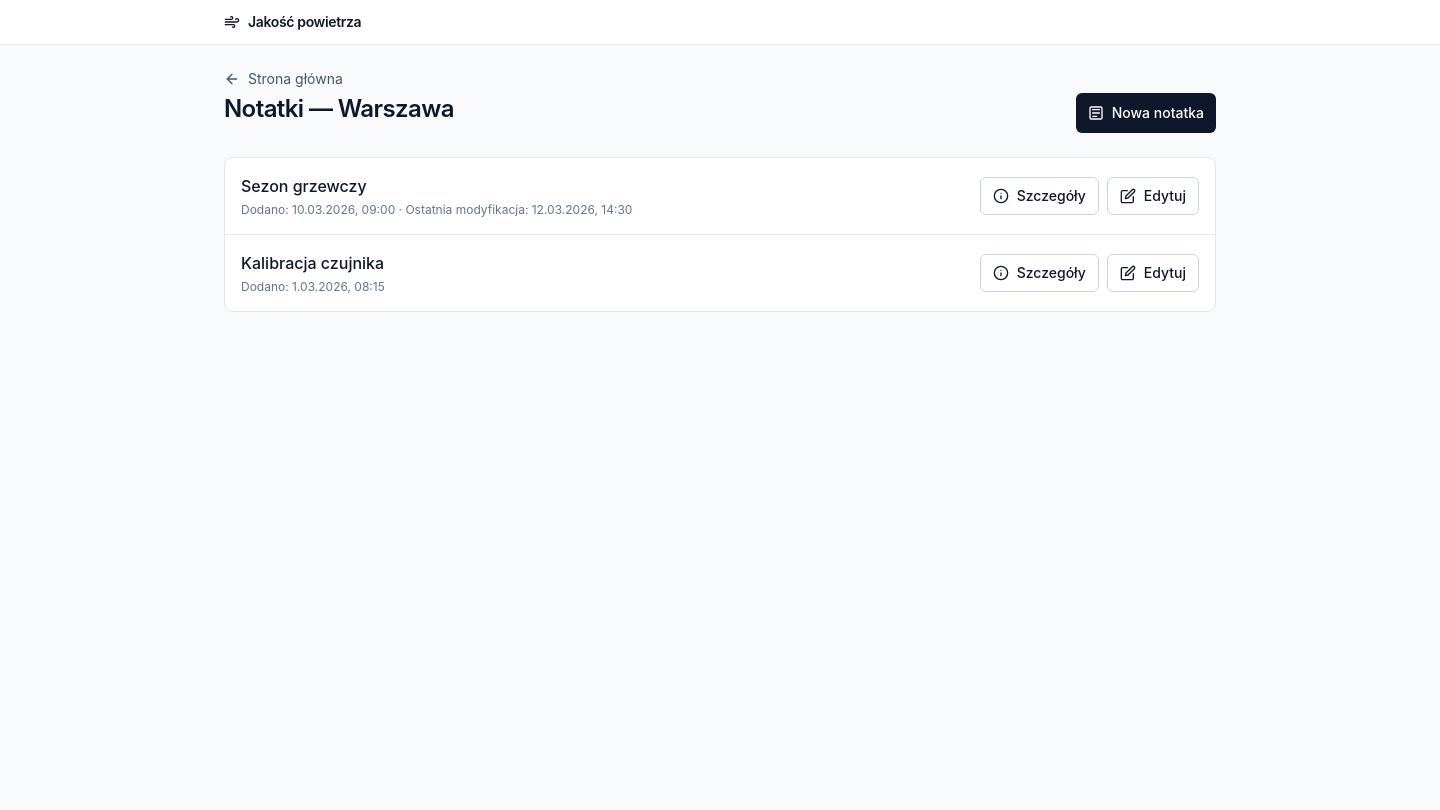
cityNotes -> pages -> NotesPage › opens detail modal with note body
Expected: the text "Sezon grzewczy" is shown, [241,176,367,196]
Click the button "Szczegóły" in the row of "Sezon grzewczy".
click(1039, 196)  # box [980,177,1099,215]
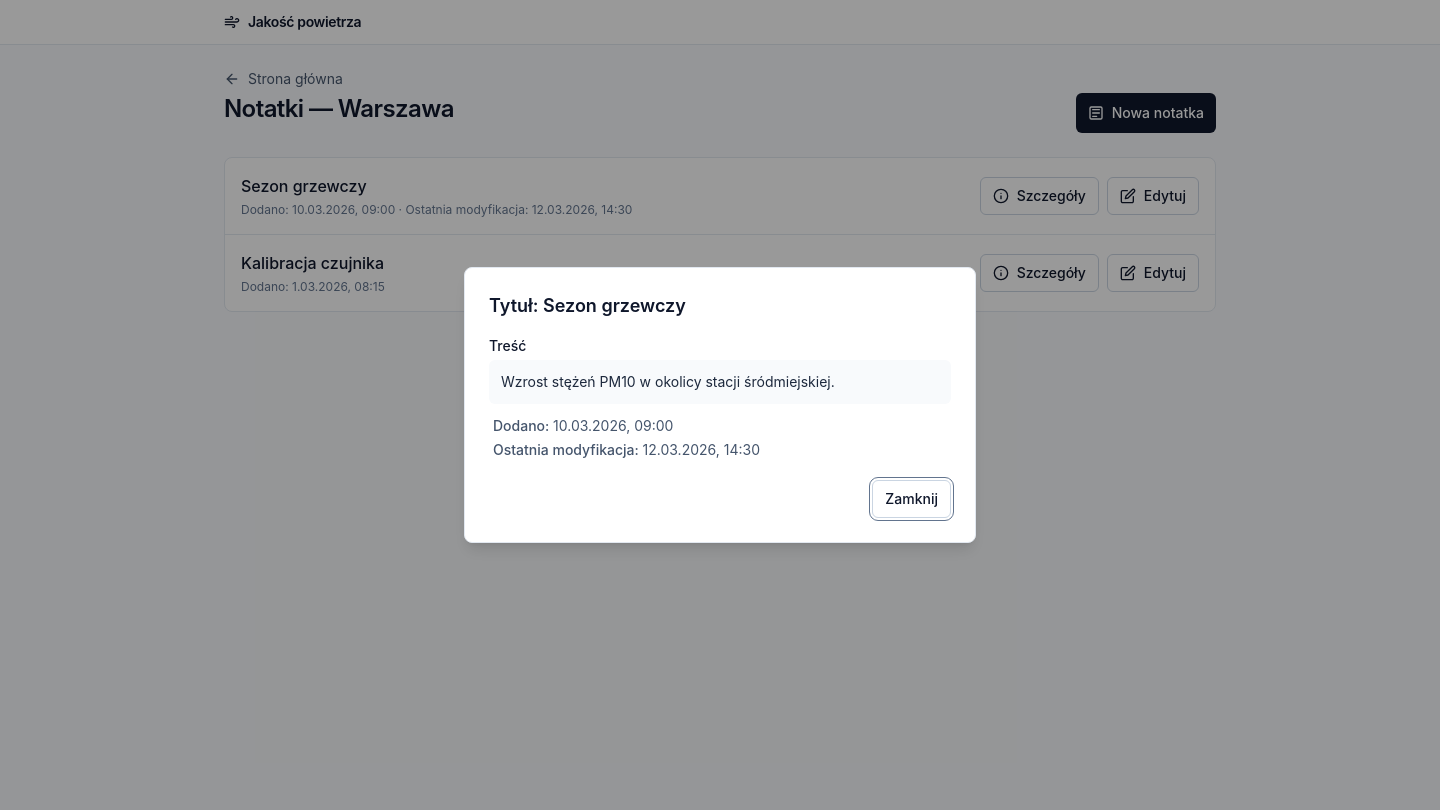
Expected: the heading "Tytuł: Sezon grzewczy" is shown, [489,295,686,316]
Expected: the text "Wzrost stężeń PM10 w okolicy stacji śródmiejskiej." is shown, [489,360,951,404]
